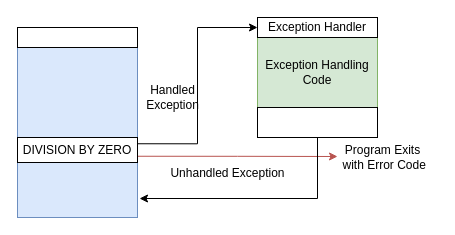
The diagram is 455 pixels wide and 235 high, and some of its shapes have lost their labels. The shapes that lost their labels are listed below. From the top down, each one's box as (x1, y1, x2, y2) in pixels, then its label:
(16, 26, 138, 48): Main Program
(256, 106, 378, 138): Return control to designated address
